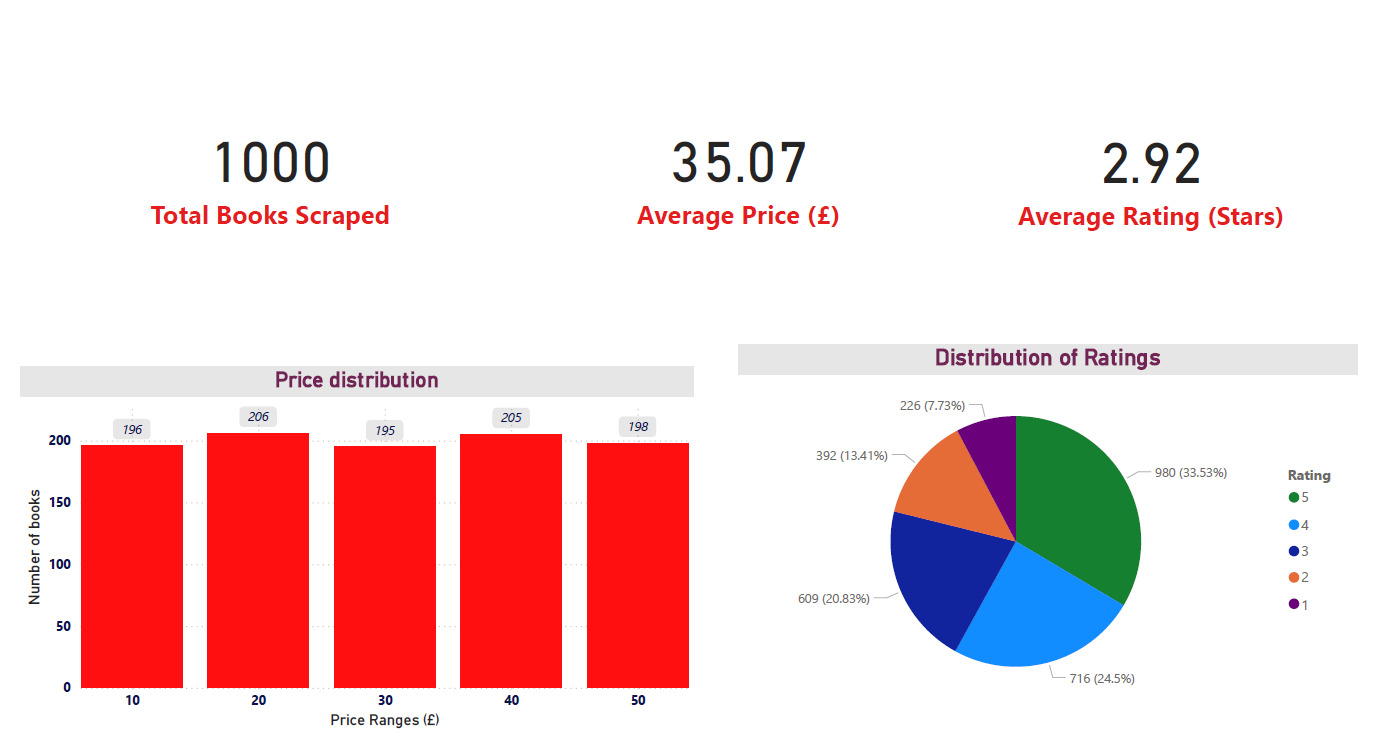

What the dashboard file says about the page in this screenshot:
{"tool":"powerbi","page":{"name":"Page 1","canvas":[1280,720],"ordinal":0},"visuals":[{"type":"pieChart","title":"Distribution of Ratings","fields":{"Category":["books_to_scrape.Rating"],"Y":["Sum(books_to_scrape.Rating)"]},"box":[682,338.9,587.3,349.9],"z":0},{"type":"clusteredColumnChart","title":"Price distribution","fields":{"Y":["CountNonNull(books_to_scrape.Title)"],"Category":["books_to_scrape.Price (bins)"]},"box":[0,359.5,639.5,349.9],"z":2000},{"type":"card","fields":{"Values":["CountNonNull(books_to_scrape.Title)"]},"box":[0,0,474.8,349.9],"z":2001},{"type":"card","fields":{"Values":["Avg(books_to_scrape.Price)"]},"box":[485.8,20.6,392.5,308.7],"z":2002},{"type":"card","fields":{"Values":["Avg(books_to_scrape.Rating)"]},"box":[878,21,391,309],"z":2003}]}

Visuals, with their boxes on the page's 1280x720 design canvas (x1, y1, x2, y2). These are canvas units, not pixel positions in the 1395x742 screenshot, which may show the page scaled, cropped or inside an application window:
"Distribution of Ratings" pieChart: x1=682, y1=339, x2=1269, y2=689
"Price distribution" clusteredColumnChart: x1=0, y1=360, x2=640, y2=709
card - CountNonNull(books_to_scrape.Title): x1=0, y1=0, x2=475, y2=350
card - Avg(books_to_scrape.Price): x1=486, y1=21, x2=878, y2=329
card - Avg(books_to_scrape.Rating): x1=878, y1=21, x2=1269, y2=330
